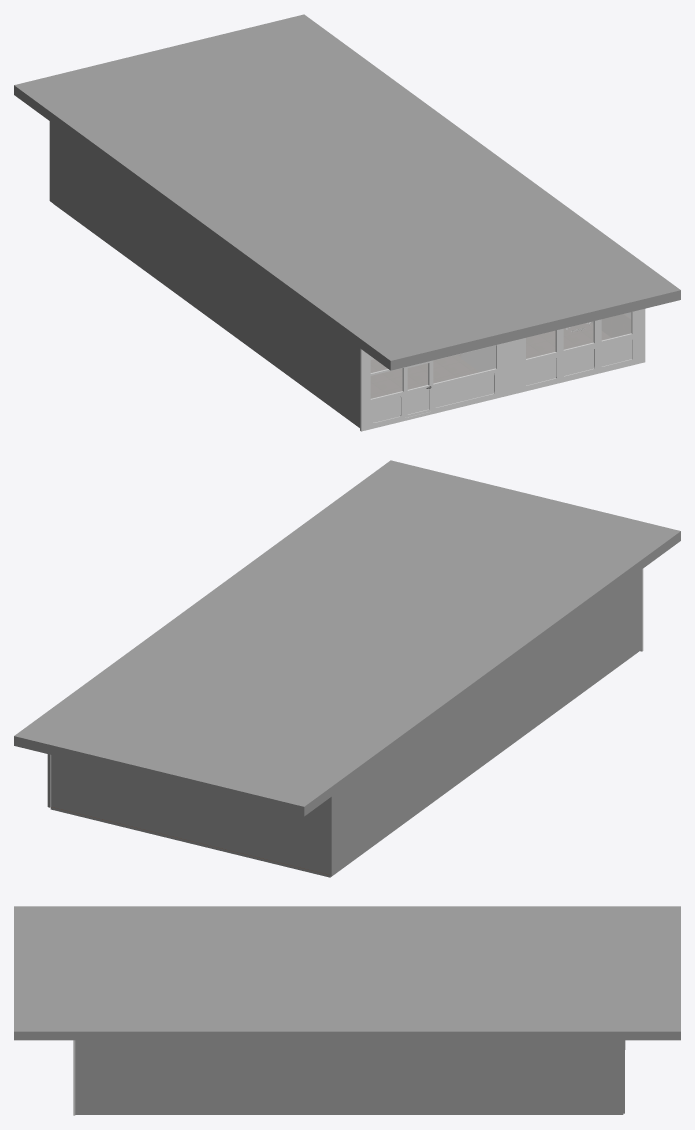
File: LastShop.fbx
3 views of the same model, one above another, from view 1: azimuth 30°, elevation 25°; view 2: azimuth 150°, elevation 25°; view 3: azimuth 270°, elevation 25° (orthographic). The views are drawn at different scales.
Visible parts, largest first — view 1: Ceiling, LeftWall, FrontWall, EnterGlassLeft, EnterGlassRight, Door; view 2: Ceiling, LeftWall, BackWall, Floor; view 3: Ceiling, RightWall, Floor.
Part boxes in pixels (bbox=[...]): Ceiling: bbox=[14, 14, 680, 370]; LeftWall: bbox=[49, 121, 359, 427]; FrontWall: bbox=[360, 309, 645, 431]; EnterGlassLeft: bbox=[370, 345, 495, 398]; EnterGlassRight: bbox=[526, 312, 631, 358]; Door: bbox=[405, 361, 431, 417]; Ceiling: bbox=[14, 460, 680, 816]; LeftWall: bbox=[329, 569, 641, 876]; BackWall: bbox=[51, 755, 329, 874]; Floor: bbox=[50, 652, 637, 877]; Ceiling: bbox=[14, 906, 680, 1040]; RightWall: bbox=[75, 1040, 625, 1113]; Floor: bbox=[75, 1113, 623, 1114].
Bounding box in the file's own units: 4458 × 1412 × 10023.
Materials: 8 (3 with a texture image).
